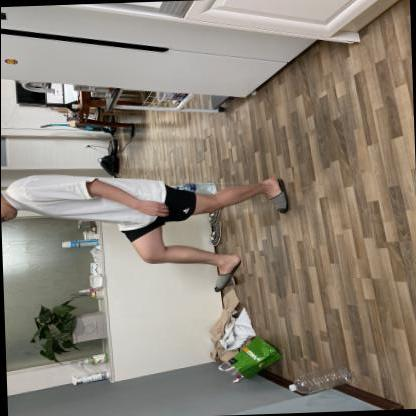no_safety-shoe: (257, 174, 302, 218), (211, 250, 248, 298)
